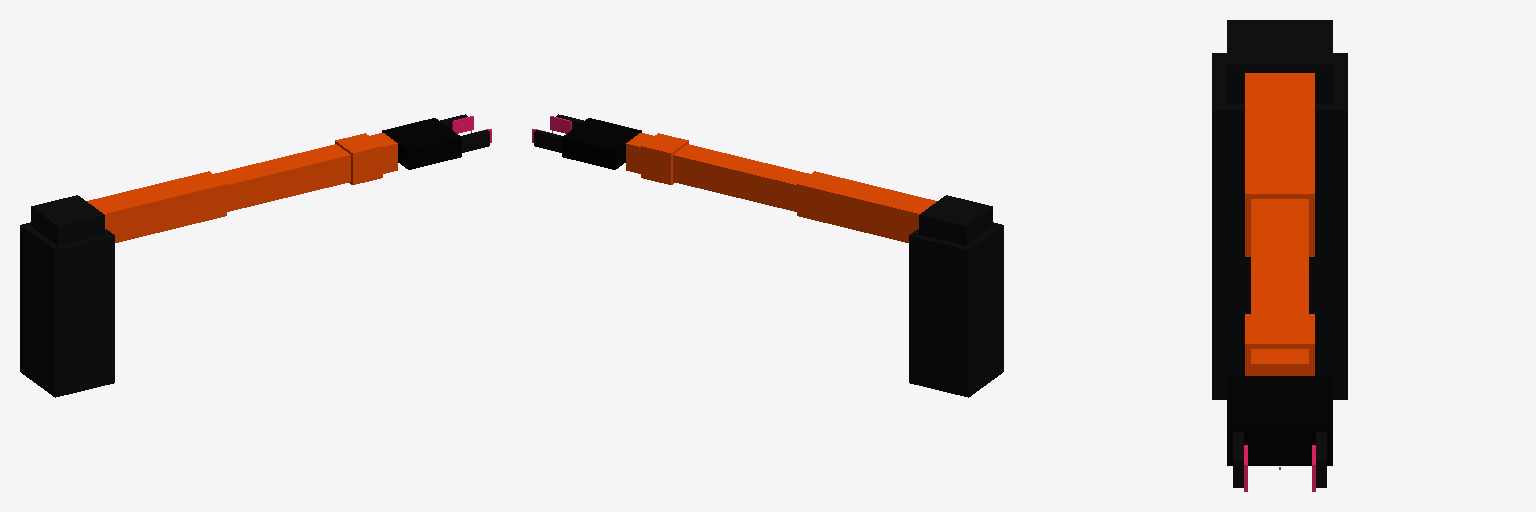
robot.urdf — hcr3a_functional:
<?xml version='1.0' encoding='utf-8'?>
<robot name="hcr3a_functional">
  <link name="base">
    <inertial>
      <origin xyz="0 0 0.15" />
      <mass value="3" />
      <inertia ixx=".01" iyy=".01" izz=".01" ixy="0" ixz="0" iyz="0" />
    </inertial>
    <visual>
      <origin xyz="0 0 0.15" />
      <geometry>
        <box size="0.128 0.128 0.3" />
      </geometry>
      <material name="base_color">
        <color rgba=".07 .075 .085 1" />
      </material>
    </visual>
    <collision>
      <origin xyz="0 0 0.15" />
      <geometry>
        <box size="0.128 0.128 0.3" />
      </geometry>
    </collision>
  </link>
  <link name="link1">
    <inertial>
      <origin xyz="0 0 0" />
      <mass value="1" />
      <inertia ixx=".01" iyy=".01" izz=".01" ixy="0" ixz="0" iyz="0" />
    </inertial>
    <visual>
      <origin xyz="0 0 0" />
      <geometry>
        <box size="0.1 0.1 0.08" />
      </geometry>
      <material name="link1_color">
        <color rgba=".07 .075 .085 1" />
      </material>
    </visual>
    <collision>
      <origin xyz="0 0 0" />
      <geometry>
        <box size="0.1 0.1 0.08" />
      </geometry>
    </collision>
  </link>
  <joint name="joint1" type="revolute">
    <parent link="base" />
    <child link="link1" />
    <origin xyz="0 0 0.3" />
    <axis xyz="0 0 1" />
    <limit lower="-6.283185307179586" upper="6.283185307179586" effort="150" velocity="2" />
    <dynamics damping=".5" friction=".01" />
  </joint>
  <link name="link2">
    <inertial>
      <origin xyz="0.16 0 0" />
      <mass value="1" />
      <inertia ixx=".01" iyy=".01" izz=".01" ixy="0" ixz="0" iyz="0" />
    </inertial>
    <visual>
      <origin xyz="0.16 0 0" />
      <geometry>
        <box size="0.32 0.065 0.065" />
      </geometry>
      <material name="link2_color">
        <color rgba="0.94 0.32 0.025 1" />
      </material>
    </visual>
    <collision>
      <origin xyz="0.16 0 0" />
      <geometry>
        <box size="0.32 0.065 0.065" />
      </geometry>
    </collision>
  </link>
  <joint name="joint2" type="revolute">
    <parent link="link1" />
    <child link="link2" />
    <origin xyz="0 0 0" />
    <axis xyz="0 1 0" />
    <limit lower="-3.141592653589793" upper="3.141592653589793" effort="150" velocity="2" />
    <dynamics damping=".5" friction=".01" />
  </joint>
  <link name="link3">
    <inertial>
      <origin xyz="0.15 0 0" />
      <mass value="1" />
      <inertia ixx=".01" iyy=".01" izz=".01" ixy="0" ixz="0" iyz="0" />
    </inertial>
    <visual>
      <origin xyz="0.15 0 0" />
      <geometry>
        <box size="0.3 0.055 0.055" />
      </geometry>
      <material name="link3_color">
        <color rgba="0.94 0.32 0.025 1" />
      </material>
    </visual>
    <collision>
      <origin xyz="0.15 0 0" />
      <geometry>
        <box size="0.3 0.055 0.055" />
      </geometry>
    </collision>
  </link>
  <joint name="joint3" type="revolute">
    <parent link="link2" />
    <child link="link3" />
    <origin xyz="0.32 0 0" />
    <axis xyz="0 1 0" />
    <limit lower="-2.79" upper="2.79" effort="150" velocity="2" />
    <dynamics damping=".5" friction=".01" />
  </joint>
  <link name="link4">
    <inertial>
      <origin xyz="0 0 0" />
      <mass value="1" />
      <inertia ixx=".01" iyy=".01" izz=".01" ixy="0" ixz="0" iyz="0" />
    </inertial>
    <visual>
      <origin xyz="0 0 0" />
      <geometry>
        <box size="0.065 0.065 0.065" />
      </geometry>
      <material name="link4_color">
        <color rgba="0.94 0.32 0.025 1" />
      </material>
    </visual>
    <collision>
      <origin xyz="0 0 0" />
      <geometry>
        <box size="0.065 0.065 0.065" />
      </geometry>
    </collision>
  </link>
  <joint name="joint4" type="revolute">
    <parent link="link3" />
    <child link="link4" />
    <origin xyz="0.3 0 0" />
    <axis xyz="1 0 0" />
    <limit lower="-6.283185307179586" upper="6.283185307179586" effort="150" velocity="2" />
    <dynamics damping=".5" friction=".01" />
  </joint>
  <link name="link5">
    <inertial>
      <origin xyz="0.02 0 0" />
      <mass value="1" />
      <inertia ixx=".01" iyy=".01" izz=".01" ixy="0" ixz="0" iyz="0" />
    </inertial>
    <visual>
      <origin xyz="0.02 0 0" />
      <geometry>
        <box size="0.07 0.05 0.05" />
      </geometry>
      <material name="link5_color">
        <color rgba="0.94 0.32 0.025 1" />
      </material>
    </visual>
    <collision>
      <origin xyz="0.02 0 0" />
      <geometry>
        <box size="0.07 0.05 0.05" />
      </geometry>
    </collision>
  </link>
  <joint name="joint5" type="revolute">
    <parent link="link4" />
    <child link="link5" />
    <origin xyz="0 0 0" />
    <axis xyz="0 1 0" />
    <limit lower="-6.283185307179586" upper="6.283185307179586" effort="150" velocity="2" />
    <dynamics damping=".5" friction=".01" />
  </joint>
  <link name="link6">
    <inertial>
      <origin xyz="0 0 0" />
      <mass value="1" />
      <inertia ixx=".01" iyy=".01" izz=".01" ixy="0" ixz="0" iyz="0" />
    </inertial>
    <visual>
      <origin xyz="0 0 0" />
      <geometry>
        <box size="0.035 0.055 0.055" />
      </geometry>
      <material name="link6_color">
        <color rgba="0.94 0.32 0.025 1" />
      </material>
    </visual>
    <collision>
      <origin xyz="0 0 0" />
      <geometry>
        <box size="0.035 0.055 0.055" />
      </geometry>
    </collision>
  </link>
  <joint name="joint6" type="revolute">
    <parent link="link5" />
    <child link="link6" />
    <origin xyz="0.05 0 0" />
    <axis xyz="1 0 0" />
    <limit lower="-6.283185307179586" upper="6.283185307179586" effort="150" velocity="2" />
    <dynamics damping=".5" friction=".01" />
  </joint>
  <link name="tool">
    <inertial>
      <origin xyz="0.064 0 0" />
      <mass value="0.98" />
      <inertia ixx=".01" iyy=".01" izz=".01" ixy="0" ixz="0" iyz="0" />
    </inertial>
    <visual>
      <origin xyz="0.064 0 0" />
      <geometry>
        <box size="0.114 0.1 0.04" />
      </geometry>
      <material name="tool_color">
        <color rgba=".035 .035 .04 1" />
      </material>
    </visual>
    <collision>
      <origin xyz="0.064 0 0" />
      <geometry>
        <box size="0.114 0.1 0.04" />
      </geometry>
    </collision>
  </link>
  <joint name="tool_mount" type="fixed">
    <parent link="link6" />
    <child link="tool" />
    <origin xyz="0.02 0 0" />
    <axis xyz="0 0 1" />
    <limit lower="-6.28" upper="6.28" effort="150" velocity="2" />
    <dynamics damping=".5" friction=".01" />
  </joint>
  <link name="left_finger">
    <inertial>
      <origin xyz="0.15 0 0" />
      <mass value="0.05" />
      <inertia ixx=".01" iyy=".01" izz=".01" ixy="0" ixz="0" iyz="0" />
    </inertial>
    <visual>
      <origin xyz="0.15 0 0" />
      <geometry>
        <box size="0.065 0.01 0.03" />
      </geometry>
      <material name="left_finger_color">
        <color rgba=".08 .08 .085 1" />
      </material>
    </visual>
    <collision>
      <origin xyz="0.15 0 0" />
      <geometry>
        <box size="0.065 0.01 0.03" />
      </geometry>
    </collision>
  </link>
  <joint name="left_jaw" type="prismatic">
    <parent link="tool" />
    <child link="left_finger" />
    <origin xyz="0 0.039 0" />
    <axis xyz="0 1 0" />
    <limit lower="0" upper="0.010000000000000002" effort="150" velocity="2" />
    <dynamics damping=".5" friction=".01" />
  </joint>
  <link name="left_pad">
    <inertial>
      <origin xyz="0.17 -0.007 0" />
      <mass value="0.01" />
      <inertia ixx=".01" iyy=".01" izz=".01" ixy="0" ixz="0" iyz="0" />
    </inertial>
    <visual>
      <origin xyz="0.17 -0.007 0" />
      <geometry>
        <box size="0.045 0.004 0.027" />
      </geometry>
      <material name="left_pad_color">
        <color rgba=".95 .15 .45 1" />
      </material>
    </visual>
    <collision>
      <origin xyz="0.17 -0.007 0" />
      <geometry>
        <box size="0.045 0.004 0.027" />
      </geometry>
    </collision>
  </link>
  <joint name="left_pad_mount" type="fixed">
    <parent link="left_finger" />
    <child link="left_pad" />
    <origin xyz="0 0 0" />
    <axis xyz="0 0 1" />
    <limit lower="-6.28" upper="6.28" effort="150" velocity="2" />
    <dynamics damping=".5" friction=".01" />
  </joint>
  <link name="right_finger">
    <inertial>
      <origin xyz="0.15 0 0" />
      <mass value="0.05" />
      <inertia ixx=".01" iyy=".01" izz=".01" ixy="0" ixz="0" iyz="0" />
    </inertial>
    <visual>
      <origin xyz="0.15 0 0" />
      <geometry>
        <box size="0.065 0.01 0.03" />
      </geometry>
      <material name="right_finger_color">
        <color rgba=".08 .08 .085 1" />
      </material>
    </visual>
    <collision>
      <origin xyz="0.15 0 0" />
      <geometry>
        <box size="0.065 0.01 0.03" />
      </geometry>
    </collision>
  </link>
  <joint name="right_jaw" type="prismatic">
    <parent link="tool" />
    <child link="right_finger" />
    <origin xyz="0 -0.039 0" />
    <axis xyz="0 -1 0" />
    <limit lower="0" upper="0.010000000000000002" effort="150" velocity="2" />
    <dynamics damping=".5" friction=".01" />
  </joint>
  <link name="right_pad">
    <inertial>
      <origin xyz="0.17 0.007 0" />
      <mass value="0.01" />
      <inertia ixx=".01" iyy=".01" izz=".01" ixy="0" ixz="0" iyz="0" />
    </inertial>
    <visual>
      <origin xyz="0.17 0.007 0" />
      <geometry>
        <box size="0.045 0.004 0.027" />
      </geometry>
      <material name="right_pad_color">
        <color rgba=".95 .15 .45 1" />
      </material>
    </visual>
    <collision>
      <origin xyz="0.17 0.007 0" />
      <geometry>
        <box size="0.045 0.004 0.027" />
      </geometry>
    </collision>
  </link>
  <joint name="right_pad_mount" type="fixed">
    <parent link="right_finger" />
    <child link="right_pad" />
    <origin xyz="0 0 0" />
    <axis xyz="0 0 1" />
    <limit lower="-6.28" upper="6.28" effort="150" velocity="2" />
    <dynamics damping=".5" friction=".01" />
  </joint>
  <link name="tcp">
    <inertial>
      <origin xyz="0 0 0" />
      <mass value="0.001" />
      <inertia ixx=".01" iyy=".01" izz=".01" ixy="0" ixz="0" iyz="0" />
    </inertial>
    <visual>
      <origin xyz="0 0 0" />
      <geometry>
        <box size="0.002 0.002 0.002" />
      </geometry>
      <material name="tcp_color">
        <color rgba="0.94 0.32 0.025 1" />
      </material>
    </visual>
  </link>
  <joint name="tcp_mount" type="fixed">
    <parent link="link6" />
    <child link="tcp" />
    <origin xyz="0.19 0.0 0.0" />
    <axis xyz="0 0 1" />
    <limit lower="-6.28" upper="6.28" effort="150" velocity="2" />
    <dynamics damping=".5" friction=".01" />
  </joint>
</robot>

--- What the picture shows (computed from the rendered views, not written in the file) ---
The picture shows the robot from 3 angles, left to right: view 1: azimuth 30°, elevation 25°; view 2: azimuth 150°, elevation 25°; view 3: azimuth 270°, elevation 25°; orthographic projection.
Model hcr3a_functional with 13 links and 12 joints (6 revolute, 2 prismatic, 4 fixed), rooted at base, posed all joints at 0.
Visible links, largest first — view 1: base, link2, link3, link1, tool, link4, link6; view 2: base, link2, link3, link1, tool, link4, link6; view 3: base, link2, tool, link1, link3, link4, link6, left_finger, right_finger.
Boxes of the visible links, <box> form: base: <box>20,222,114,397</box>; link2: <box>87,171,226,242</box>; link3: <box>214,144,350,211</box>; link1: <box>31,195,104,245</box>; tool: <box>382,118,461,169</box>; link4: <box>335,133,382,184</box>; link6: <box>370,133,397,173</box>; base: <box>909,222,1003,397</box>; link2: <box>797,171,936,242</box>; link3: <box>673,144,809,211</box>; link1: <box>919,195,992,245</box>; tool: <box>562,118,641,169</box>; link4: <box>641,133,688,184</box>; link6: <box>626,133,653,173</box>; base: <box>1212,53,1347,399</box>; link2: <box>1245,73,1314,256</box>; tool: <box>1227,376,1332,465</box>; link1: <box>1227,20,1332,103</box>; link3: <box>1251,199,1308,313</box>; link4: <box>1245,314,1314,375</box>; link6: <box>1251,349,1308,375</box>; left_finger: <box>1316,432,1326,487</box>; right_finger: <box>1233,432,1243,487</box>.
Bounding box of the posed robot: 0.9465 × 0.128 × 0.34 m (x, y, z).
Geometry: primitives only (box / cylinder / sphere), no mesh files.
